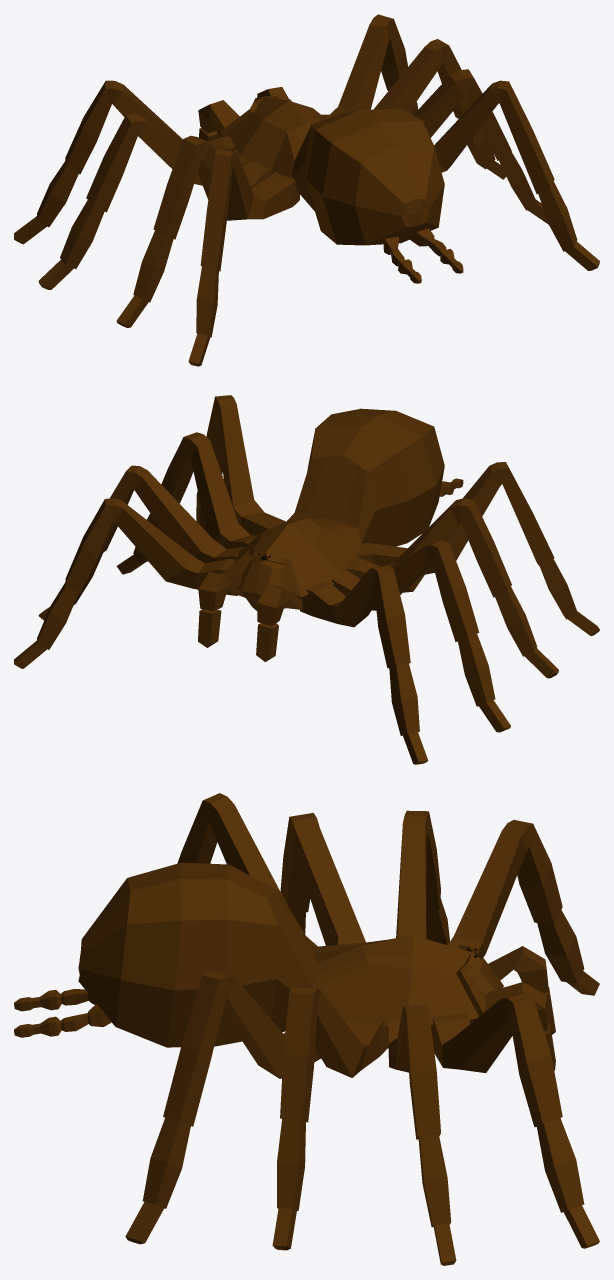
File: tarantula unanimated.fbx
The picture shows the model from 3 angles, top to bottom: view 1: azimuth 30°, elevation 25°; view 2: azimuth 150°, elevation 25°; view 3: azimuth 270°, elevation 25°; orthographic projection. The views are drawn at different scales.
Visible parts, largest first — view 1: Cube.001, Cube, Cube.003, Cube.002; view 2: Cube.001, Cube, Cube.002; view 3: Cube.001, Cube, Cube.002, Cube.003.
Boxes of the visible parts, x1,y1,x2,y2 form: Cube.001: [14, 14, 599, 366]; Cube: [220, 95, 444, 245]; Cube.003: [383, 228, 463, 283]; Cube.002: [198, 87, 288, 141]; Cube.001: [14, 395, 599, 764]; Cube: [222, 408, 444, 610]; Cube.002: [198, 572, 302, 661]; Cube.001: [125, 793, 599, 1265]; Cube: [78, 862, 503, 1047]; Cube.002: [470, 946, 555, 1070]; Cube.003: [14, 989, 111, 1037].
Size of the model in its own units: 911 by 345 by 757.
